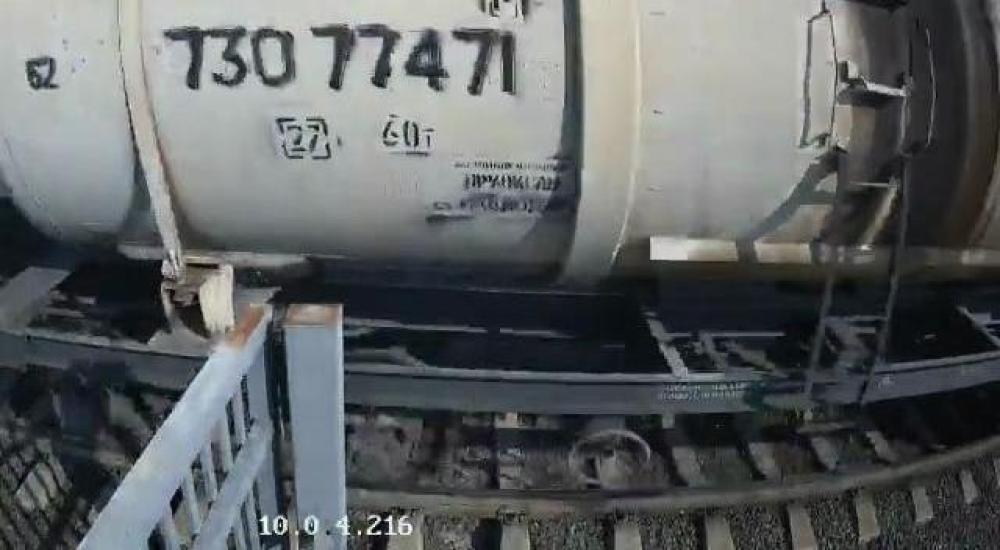Wagon-number: (163, 23, 527, 93)
